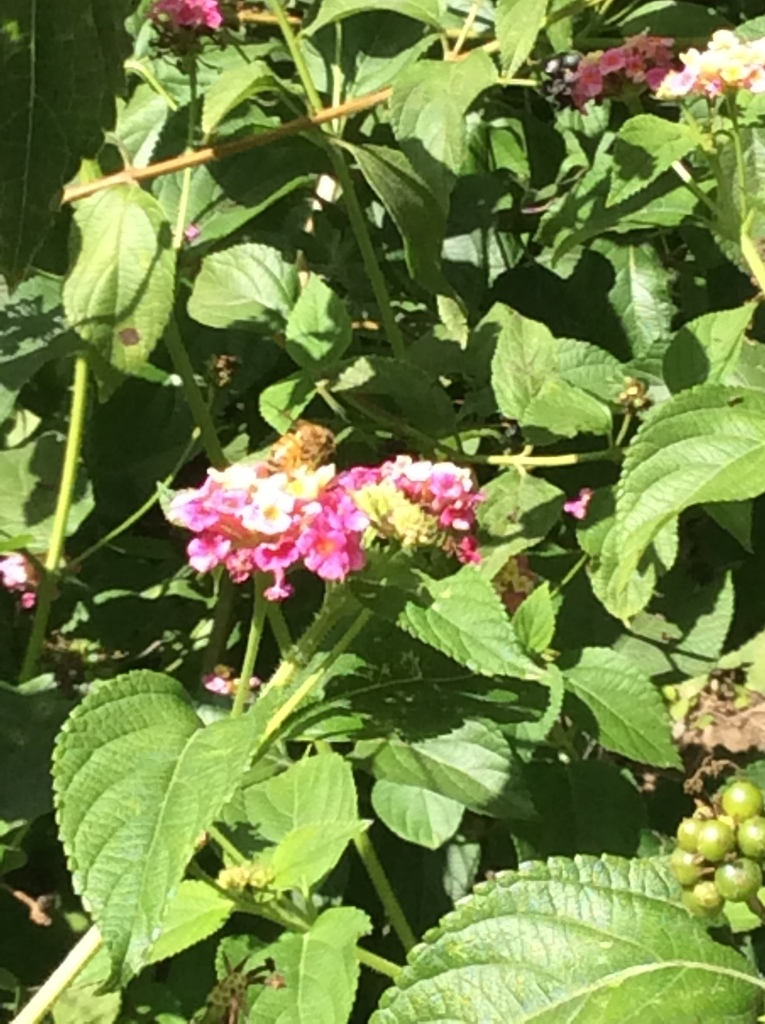not_bumblebee: (262, 396, 336, 483)
